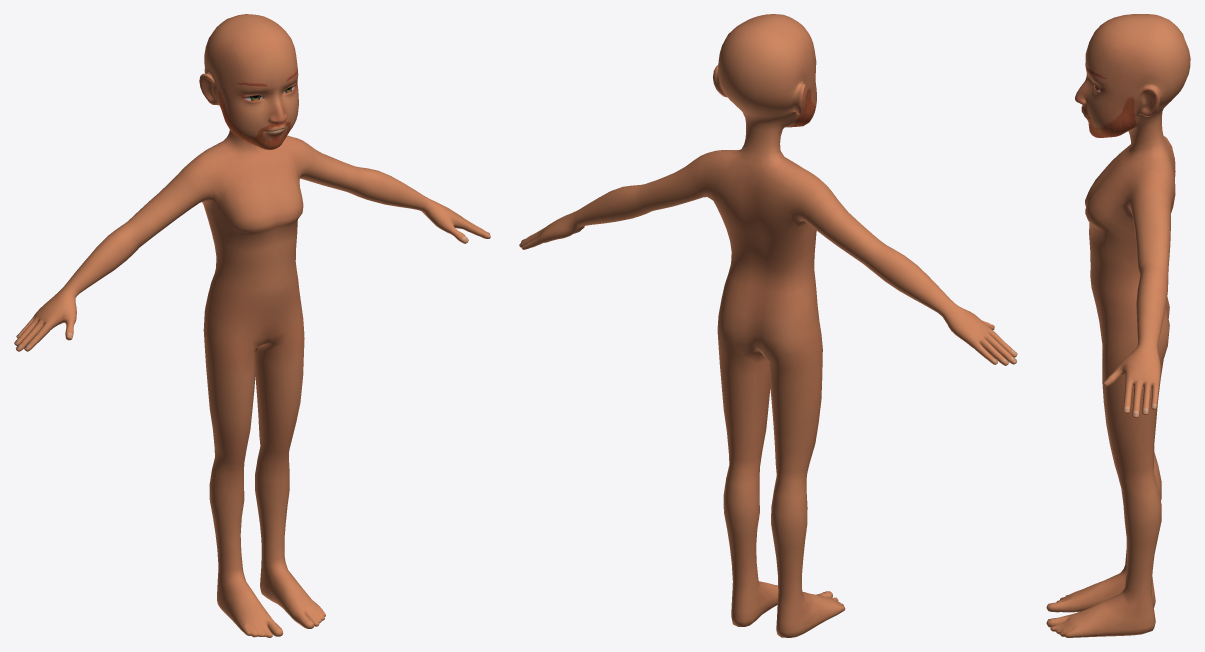
Rendered from frame_0072.glb.
3 views of the same model, side by side, from view 1: azimuth 30°, elevation 25°; view 2: azimuth 150°, elevation 25°; view 3: azimuth 270°, elevation 25° (orthographic). The views are drawn at different scales.
Parts seen in each view (by area): view 1: frame_0072_head_geo; view 2: frame_0072_head_geo; view 3: frame_0072_head_geo.
Boxes of the visible parts, x1=… form: frame_0072_head_geo: x1=14, y1=14, x2=490, y2=637; frame_0072_head_geo: x1=519, y1=14, x2=1017, y2=637; frame_0072_head_geo: x1=1046, y1=14, x2=1190, y2=637.
Size of the model in its own units: 1.28 by 1.5 by 0.3253.
Materials: 3 (3 with a texture image).
